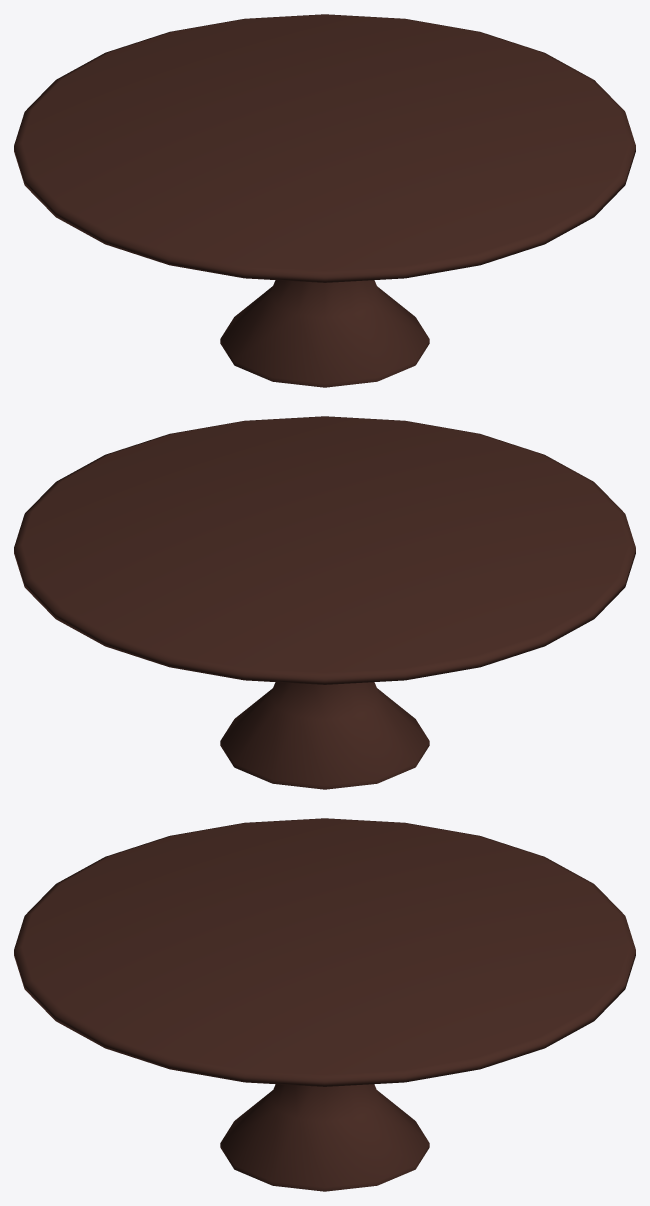
The model's file is Round Table.fbx.
3 renders of one model, top to bottom at view 1: azimuth 30°, elevation 25°; view 2: azimuth 150°, elevation 25°; view 3: azimuth 270°, elevation 25°, orthographic.
Parts seen in each view (by area): view 1: Round Table; view 2: Round Table; view 3: Round Table.
Boxes of the visible parts, x1,y1,x2,y2 form: Round Table: (14, 14, 635, 387); Round Table: (14, 416, 635, 789); Round Table: (14, 818, 635, 1191).
Size of the model in its own units: 254 by 90.36 by 254.
